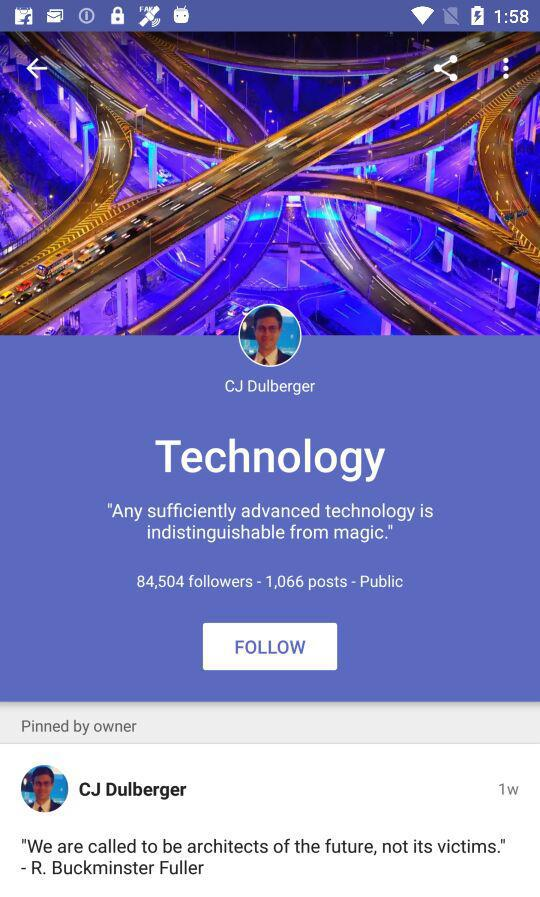Icon: (433, 55, 459, 83), (26, 58, 49, 81), (502, 57, 511, 82)
Image: (1, 33, 540, 336), (237, 303, 303, 369), (21, 764, 70, 813)
Text: (20, 838, 507, 883), (107, 501, 435, 544), (154, 437, 387, 484), (137, 573, 404, 591), (80, 780, 188, 801), (22, 719, 138, 736), (224, 378, 317, 397), (498, 782, 520, 796)
TextButton: (202, 622, 338, 671)
UpperTaskBar: (1, 1, 540, 33)
